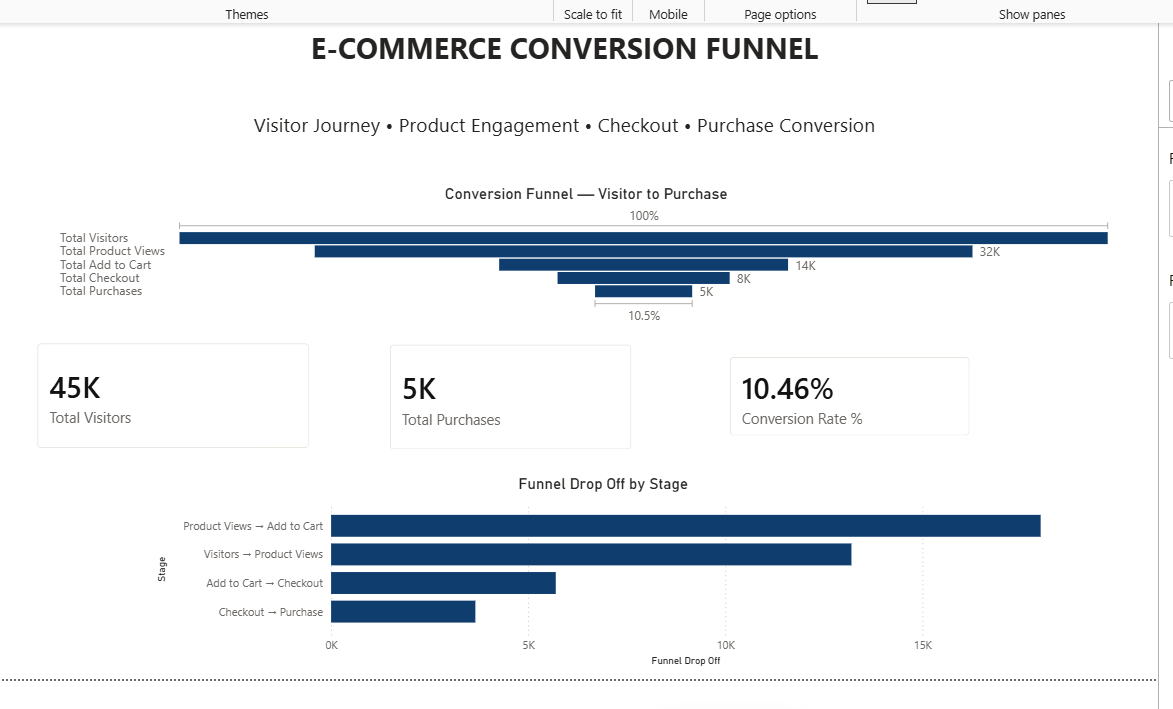

The page's visual inventory and layout, read from the dashboard file:
{"tool":"powerbi","page":{"name":"Conversion Funnel","canvas":[1280,720],"ordinal":3},"visuals":[{"type":"textbox","box":[9.6,0,1237.7,59],"z":0},{"type":"textbox","box":[9.6,74.1,1237.7,78.2],"z":1000},{"type":"funnel","title":"Conversion Funnel — Visitor to Purchase","fields":{"Y":["Fact_Funnel.Total Visitors","Fact_Funnel.Total Product Views","Fact_Funnel.Total Add to Cart","Fact_Funnel.Total Checkout","Fact_Funnel.Total Purchases"]},"box":[70,177,1165,157.8],"z":2000},{"type":"cardVisual","fields":{"Data":["Fact_Funnel.Total Visitors"]},"box":[32.9,334.8,332.1,149.6],"z":3000},{"type":"cardVisual","fields":{"Data":["Fact_Funnel.Total Purchases"]},"box":[419.9,336.2,299.1,149.6],"z":4000},{"type":"cardVisual","fields":{"Data":["Fact_Funnel.Conversion Rate %"]},"box":[793.1,349.9,297.8,120.8],"z":5000},{"type":"clusteredBarChart","fields":{"Y":["Funnel_Dropoff.Funnel Drop Off"],"Category":["Funnel_Dropoff.Stage"]},"box":[175.6,495.4,990.7,215.4],"z":6000}]}

Visuals, with their boxes on the page's 1280x720 design canvas (x1, y1, x2, y2). These are canvas units, not pixel positions in the 1173x709 screenshot, which may show the page scaled, cropped or inside an application window:
textbox: 10:0:1247:59
textbox: 10:74:1247:152
"Conversion Funnel — Visitor to Purchase" funnel: 70:177:1235:335
cardVisual - Fact_Funnel.Total Visitors: 33:335:365:484
cardVisual - Fact_Funnel.Total Purchases: 420:336:719:486
cardVisual - Fact_Funnel.Conversion Rate %: 793:350:1091:471
clusteredBarChart - Funnel_Dropoff.Funnel Drop Off x Funnel_Dropoff.Stage: 176:495:1166:711
